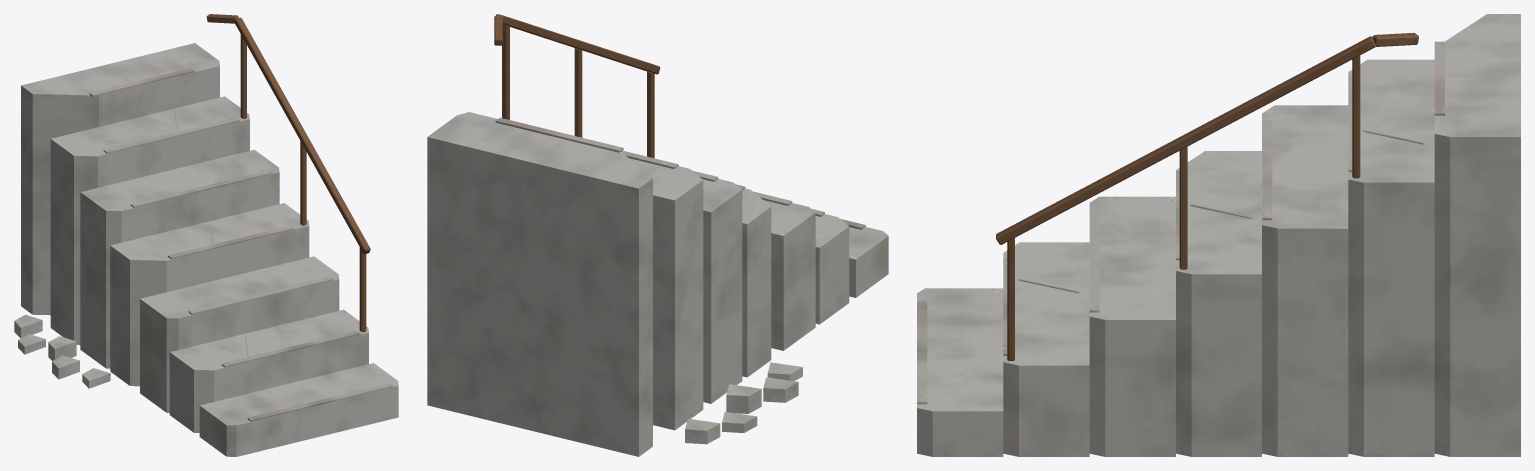
File: BR19_broken_stairs_v1.glb
The picture shows the model from 3 angles, left to right: view 1: azimuth 30°, elevation 25°; view 2: azimuth 150°, elevation 25°; view 3: azimuth 270°, elevation 25°; orthographic projection. The views are drawn at different scales.
Parts seen in each view (by area): view 1: Chipped concrete stair; view 2: Chipped concrete stair; view 3: Chipped concrete stair.
Boxes of the visible parts, bbox=[...] form: Chipped concrete stair: bbox=[14, 14, 398, 456]; Chipped concrete stair: bbox=[427, 14, 888, 456]; Chipped concrete stair: bbox=[917, 14, 1520, 456].
Size of the model in its own units: 1.84 by 2.27 by 3.
Materials: 3 (3 with a texture image).
